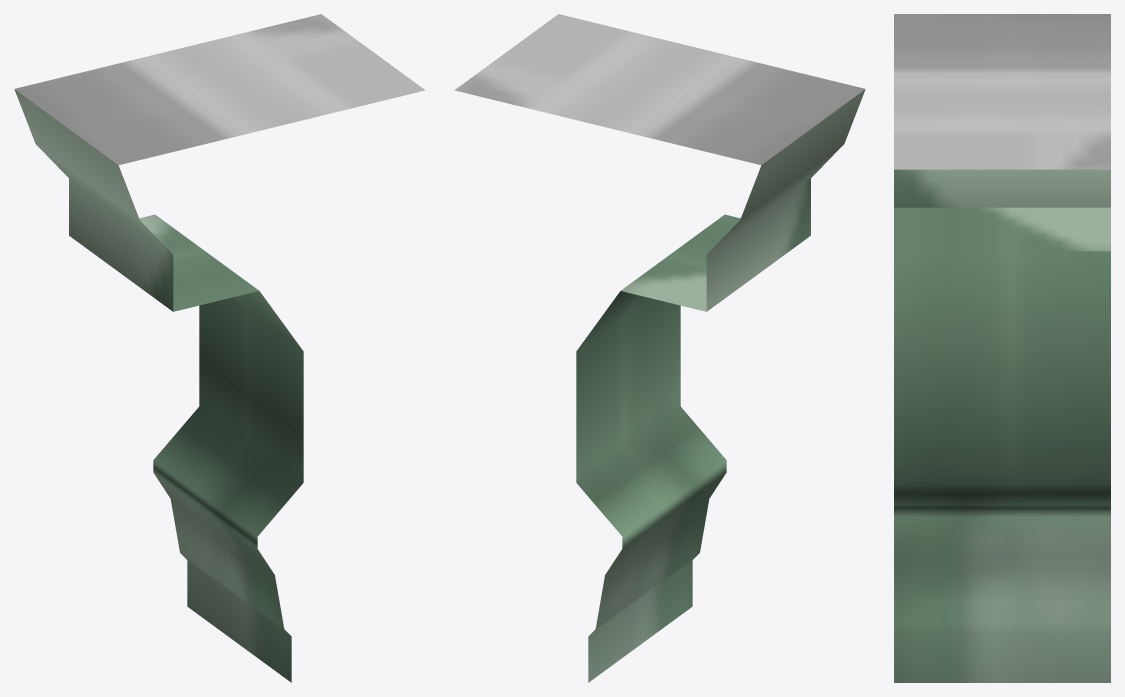
File: qVin_Buld1_RoofTrim2_Right.fbx
3 renders of one model, left to right at view 1: azimuth 30°, elevation 25°; view 2: azimuth 150°, elevation 25°; view 3: azimuth 270°, elevation 25°, orthographic. The views are drawn at different scales.
Parts seen in each view (by area): view 1: qVin_Buld1_RoofTrim2_Right; view 2: qVin_Buld1_RoofTrim2_Right; view 3: qVin_Buld1_RoofTrim2_Right.
Boxes of the visible parts, box(x1,y1,x2,y2) form: qVin_Buld1_RoofTrim2_Right: box(14, 14, 425, 682); qVin_Buld1_RoofTrim2_Right: box(454, 14, 865, 682); qVin_Buld1_RoofTrim2_Right: box(894, 14, 1110, 682).
Size of the model in its own units: 84.92 by 148 by 49.97.
1 material, 1 textured.
